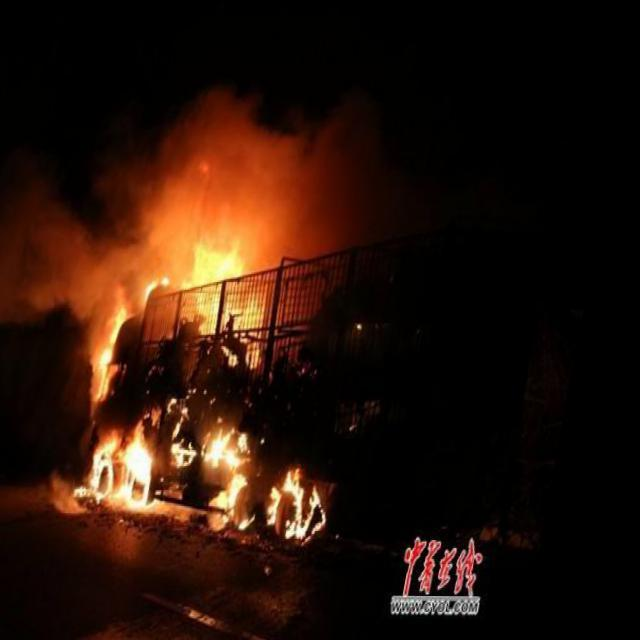Fire: (71, 231, 399, 545)
